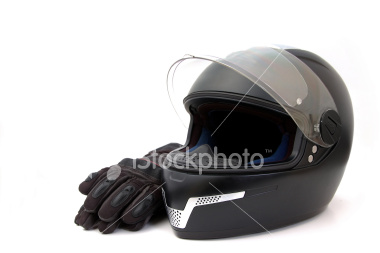helmet: (162, 35, 354, 230)
